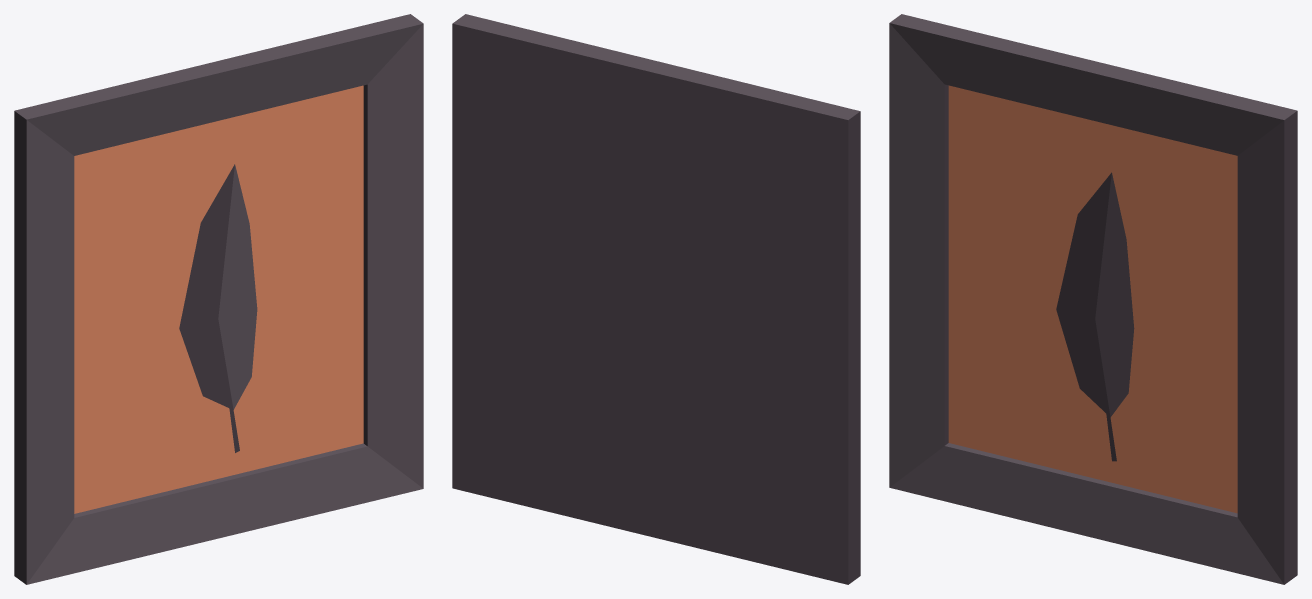
File: Feather Frame.fbx
3 views of the same model, side by side, from view 1: azimuth 30°, elevation 25°; view 2: azimuth 150°, elevation 25°; view 3: azimuth 330°, elevation 25° (orthographic).
Parts seen in each view (by area): view 1: Feather Frame; view 2: Feather Frame; view 3: Feather Frame.
Part boxes in pixels (left/top/right/bottom): Feather Frame: left=14, top=14, right=423, bottom=584; Feather Frame: left=452, top=14, right=860, bottom=584; Feather Frame: left=889, top=14, right=1297, bottom=584.
Bounding box in the file's own units: 200 × 224 × 11.5.
